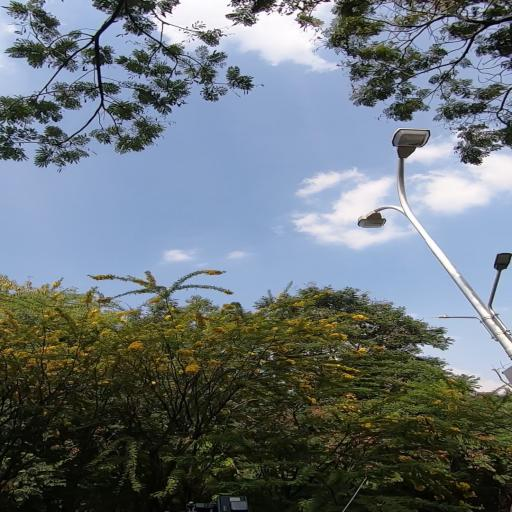Street_light: (382, 124, 438, 180), (352, 205, 402, 237), (488, 250, 511, 300)
